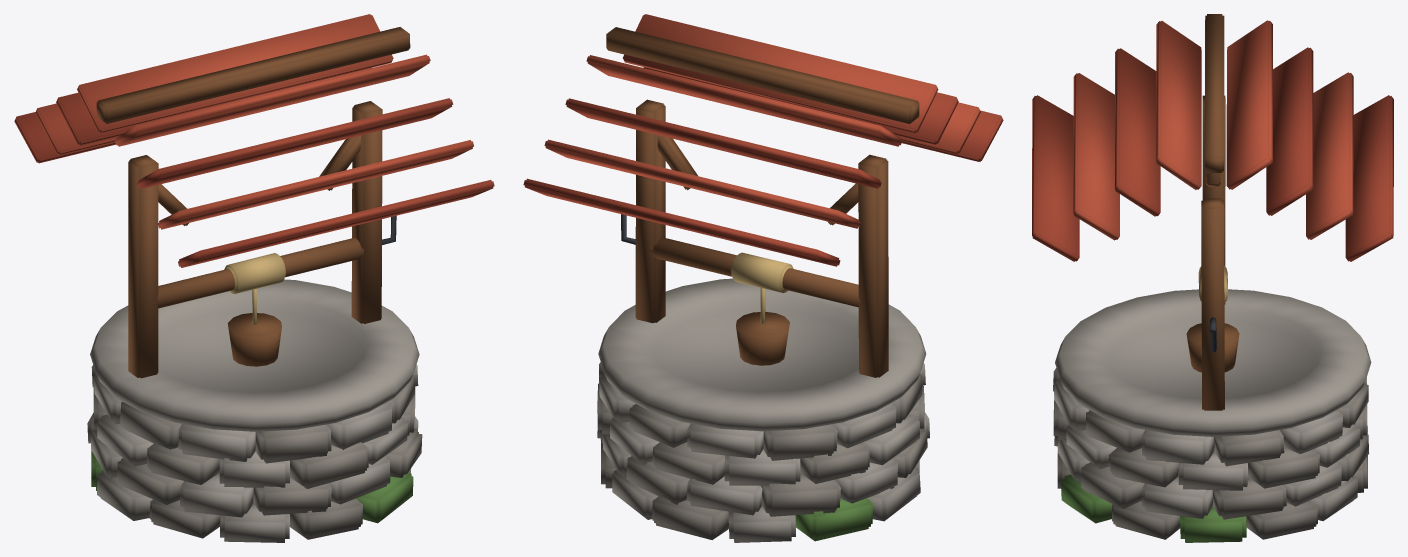
File: plaza_well.glb
The picture shows the model from 3 angles, left to right: view 1: azimuth 30°, elevation 25°; view 2: azimuth 150°, elevation 25°; view 3: azimuth 270°, elevation 25°; orthographic projection. The views are drawn at different scales.
Visible parts, largest first — view 1: plaza_well; view 2: plaza_well; view 3: plaza_well.
Part boxes in pixels (box(x1,y1,x2,y2)): plaza_well: box(14, 14, 494, 542); plaza_well: box(523, 14, 1003, 542); plaza_well: box(1032, 14, 1393, 542).
Size of the model in its own units: 2.77 by 3.45 by 2.85.
